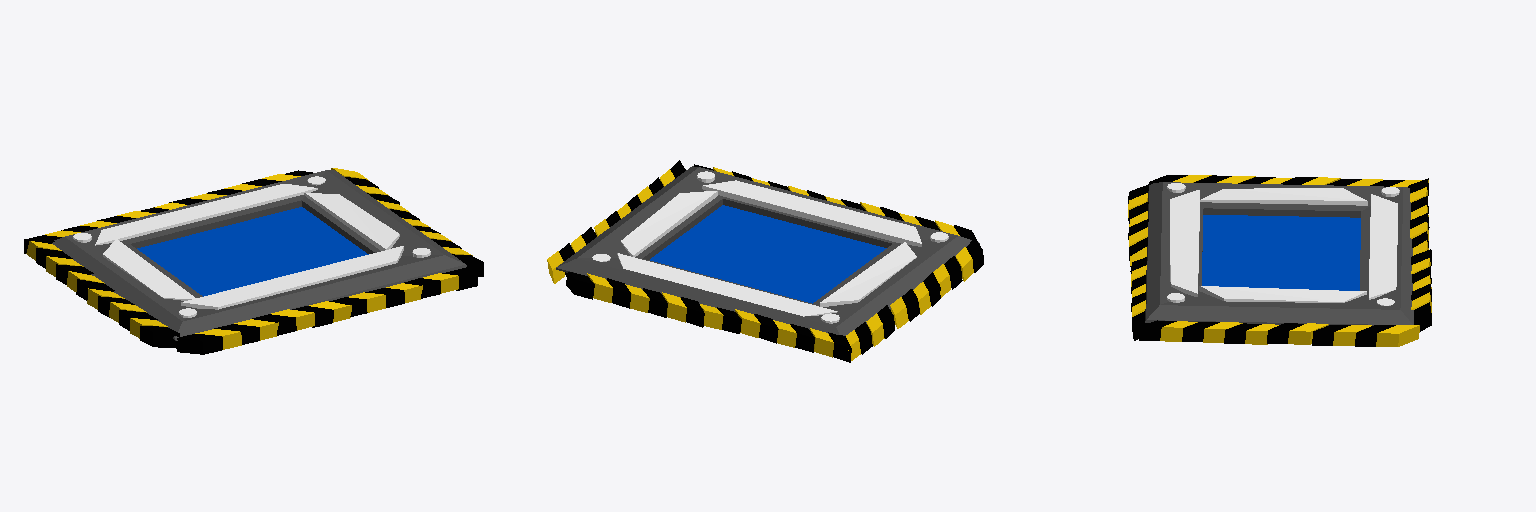
The model's file is pl_alan.obj.
The picture shows the model from 3 angles: view 1: azimuth 30°, elevation 25°; view 2: azimuth 150°, elevation 25°; view 3: azimuth 270°, elevation 25°; orthographic projection.
Visible parts, largest first — view 1: group[number redacted]; view 2: group[number redacted]; view 3: group[number redacted].
Part boxes in pixels (left/top/right/bottom): group[number redacted]: left=24, top=168, right=483, bottom=354; group[number redacted]: left=547, top=160, right=983, bottom=362; group[number redacted]: left=1128, top=175, right=1431, bottom=346.
Bounding box in the file's own units: 1.62 × 0.1433 × 1.32.